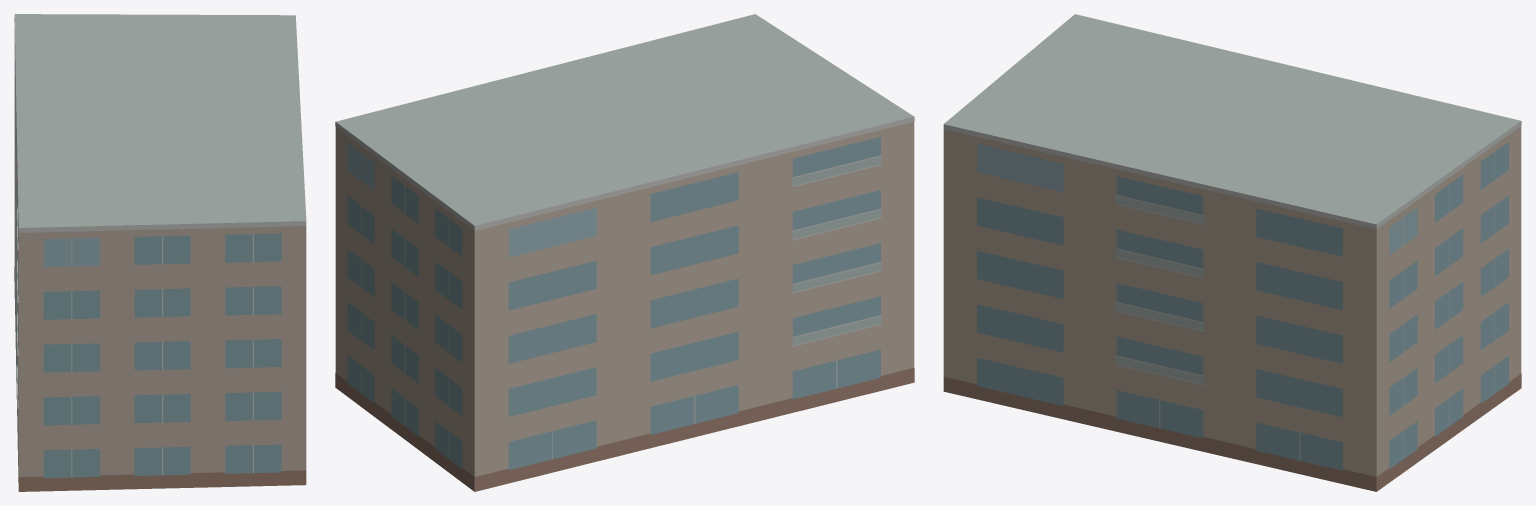
Rendered from survey-upis-32777506.glb.
3 views of the same model, side by side, from view 1: azimuth 30°, elevation 25°; view 2: azimuth 150°, elevation 25°; view 3: azimuth 270°, elevation 25° (orthographic).
Visible parts, largest first — view 1: survey-upis-32777506.tmp; view 2: survey-upis-32777506.tmp; view 3: survey-upis-32777506.tmp.
Part boxes in pixels (x1=…): survey-upis-32777506.tmp: x1=14, y1=14, x2=306, y2=491; survey-upis-32777506.tmp: x1=335, y1=14, x2=914, y2=491; survey-upis-32777506.tmp: x1=943, y1=14, x2=1521, y2=491.
Bounding box in the file's own units: 22.3 × 13.2 × 25.86.
